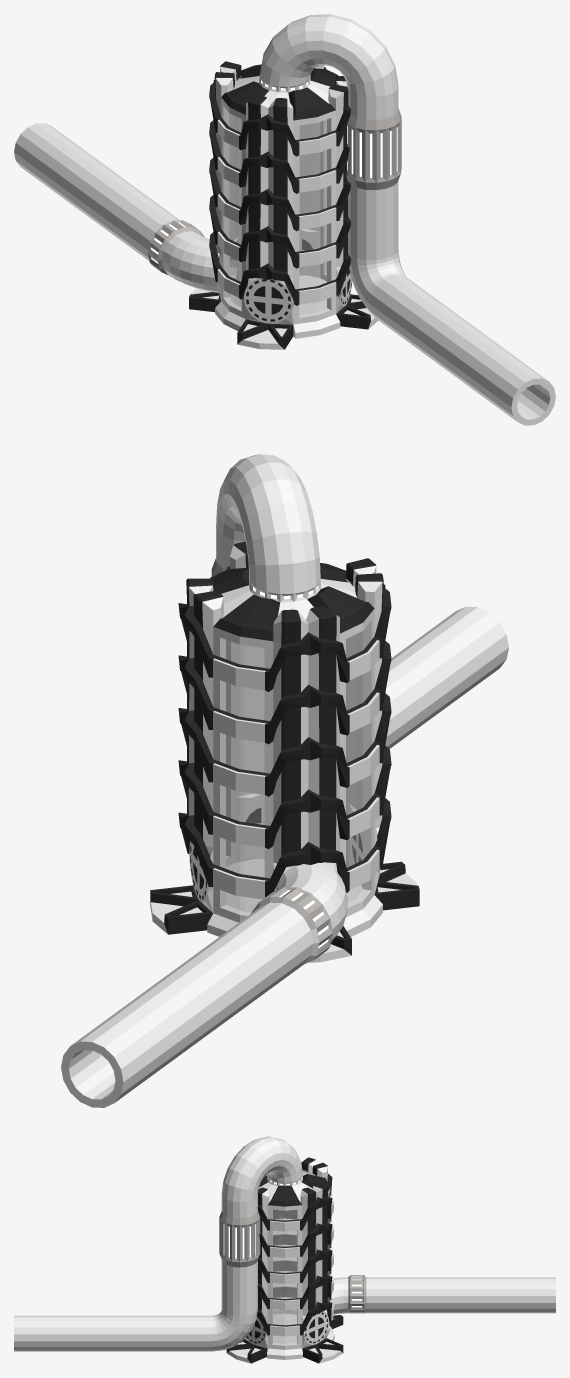
Rendered from oil_storage_small_tank.glb.
3 views of the same model, one above another, from view 1: azimuth 30°, elevation 25°; view 2: azimuth 150°, elevation 25°; view 3: azimuth 270°, elevation 25° (orthographic). The views are drawn at different scales.
Parts seen in each view (by area): view 1: OilStorageSmallTank_Body, OilStorageSmallTank_Armor, OilStorageSmallTank_UpperPipe, SmallPlatePipeUpUpAccelerator.001, SmallPlatePipeForward.004, OilStorageSmallTank_Glass, SmallPlatePipeUp.001, SmallPlatePipeForward.001, SmallPlatePipeForward.002, SmallPlatePipeForward.003, OilStorageSmallTank_LowerPipe, OilStorageSmallTank_Inside (+1 smaller); view 2: OilStorageSmallTank_Body, OilStorageSmallTank_Armor, SmallPlatePipeForward.003, OilStorageSmallTank_UpperPipe, OilStorageSmallTank_Glass, SmallPlatePipeForward.001, SmallPlatePipeForward.004, OilStorageSmallTank_Inside, OilStorageSmallTank_LowerPipe, SmallPlatePipeForward.002; view 3: OilStorageSmallTank_Body, OilStorageSmallTank_Armor, OilStorageSmallTank_UpperPipe, SmallPlatePipeForward.002, SmallPlatePipeForward.001, SmallPlatePipeForward.003, SmallPlatePipeForward.004, SmallPlatePipeUpUpAccelerator.001, SmallPlatePipeUp.001, OilStorageSmallTank_Glass, OilStorageSmallTank_LowerPipe, OilStorageSmallTank_Inside (+1 smaller).
Boxes of the visible parts, x1=… form: OilStorageSmallTank_Body: x1=189, y1=61, x2=378, y2=349; OilStorageSmallTank_Armor: x1=209, y1=67, x2=350, y2=305; OilStorageSmallTank_UpperPipe: x1=259, y1=14, x2=398, y2=96; SmallPlatePipeUpUpAccelerator.001: x1=346, y1=86, x2=401, y2=213; SmallPlatePipeForward.004: x1=447, y1=331, x2=555, y2=425; OilStorageSmallTank_Glass: x1=223, y1=106, x2=330, y2=317; SmallPlatePipeUp.001: x1=348, y1=203, x2=419, y2=327; SmallPlatePipeForward.001: x1=78, y1=170, x2=179, y2=260; SmallPlatePipeForward.002: x1=382, y1=284, x2=484, y2=374; SmallPlatePipeForward.003: x1=14, y1=123, x2=115, y2=213; OilStorageSmallTank_LowerPipe: x1=142, y1=217, x2=219, y2=292; OilStorageSmallTank_Inside: x1=229, y1=78, x2=329, y2=314; OilStorageSmallTank_Body: x1=150, y1=541, x2=419, y2=962; OilStorageSmallTank_Armor: x1=178, y1=566, x2=391, y2=899; SmallPlatePipeForward.003: x1=61, y1=975, x2=213, y2=1107; OilStorageSmallTank_UpperPipe: x1=216, y1=454, x2=320, y2=593; OilStorageSmallTank_Glass: x1=220, y1=621, x2=371, y2=915; SmallPlatePipeForward.001: x1=161, y1=909, x2=303, y2=1036; SmallPlatePipeForward.004: x1=388, y1=606, x2=508, y2=733; OilStorageSmallTank_Inside: x1=222, y1=582, x2=362, y2=912; OilStorageSmallTank_LowerPipe: x1=251, y1=862, x2=347, y2=970; SmallPlatePipeForward.002: x1=385, y1=674, x2=418, y2=748; OilStorageSmallTank_Body: x1=226, y1=1157, x2=343, y2=1363; OilStorageSmallTank_Armor: x1=257, y1=1173, x2=333, y2=1336; OilStorageSmallTank_UpperPipe: x1=221, y1=1136, x2=302, y2=1201; SmallPlatePipeForward.002: x1=104, y1=1315, x2=194, y2=1351; SmallPlatePipeForward.001: x1=375, y1=1277, x2=465, y2=1313; SmallPlatePipeForward.003: x1=465, y1=1277, x2=555, y2=1313; SmallPlatePipeForward.004: x1=14, y1=1315, x2=104, y2=1351; SmallPlatePipeUpUpAccelerator.001: x1=219, y1=1195, x2=260, y2=1283; SmallPlatePipeUp.001: x1=194, y1=1276, x2=257, y2=1351; OilStorageSmallTank_Glass: x1=272, y1=1193, x2=329, y2=1345; OilStorageSmallTank_LowerPipe: x1=331, y1=1275, x2=375, y2=1314; OilStorageSmallTank_Inside: x1=269, y1=1172, x2=309, y2=1343.
Bounding box in the file's own units: 1451 × 2554 × 6000.
2 materials, 1 textured.
